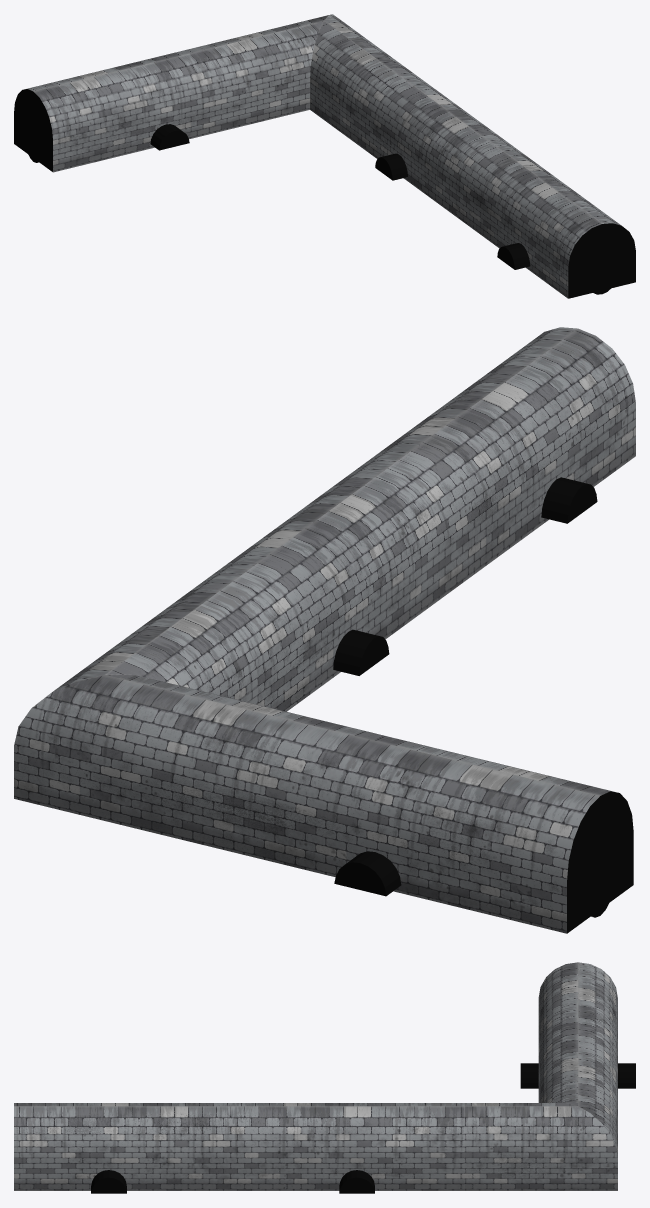
The model's file is obj_sewer.fbx.
3 renders of one model, top to bottom at view 1: azimuth 30°, elevation 25°; view 2: azimuth 150°, elevation 25°; view 3: azimuth 270°, elevation 25°, orthographic. The views are drawn at different scales.
Visible parts, largest first — view 1: obj_sewer; view 2: obj_sewer; view 3: obj_sewer.
Part boxes in pixels (x1,y1,x2,y2): obj_sewer: (14, 14, 635, 298); obj_sewer: (14, 327, 635, 933); obj_sewer: (14, 962, 635, 1193).
Size of the model in its own units: 57.31 by 11.35 by 89.41.
Materials: 1 (1 with a texture image).
